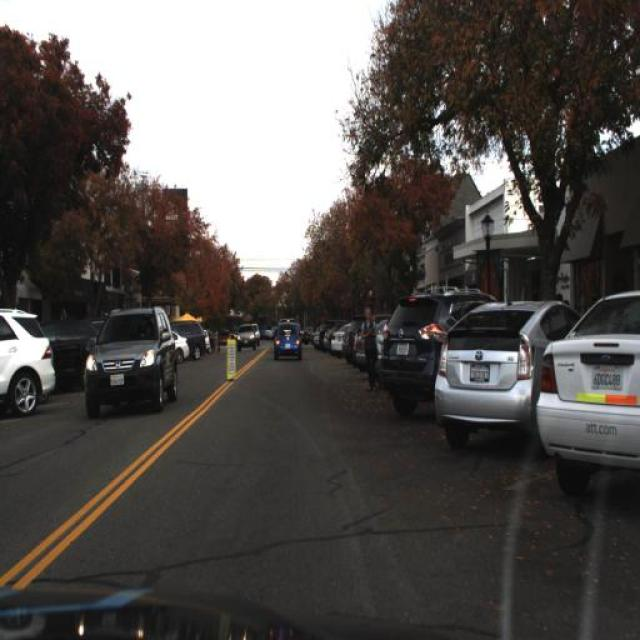car: (433, 299, 588, 462), (537, 292, 639, 500), (375, 286, 501, 423), (80, 303, 178, 415), (13, 318, 108, 398), (1, 310, 57, 426), (168, 316, 208, 366), (272, 320, 304, 361), (235, 322, 259, 353)
trafficLight: (356, 304, 382, 396)
